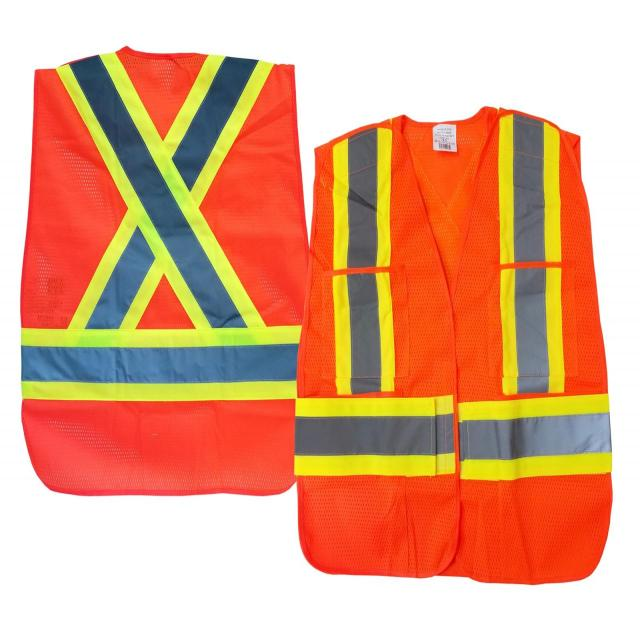Reflective-Jacket: (286, 103, 620, 597), (11, 45, 318, 509)
